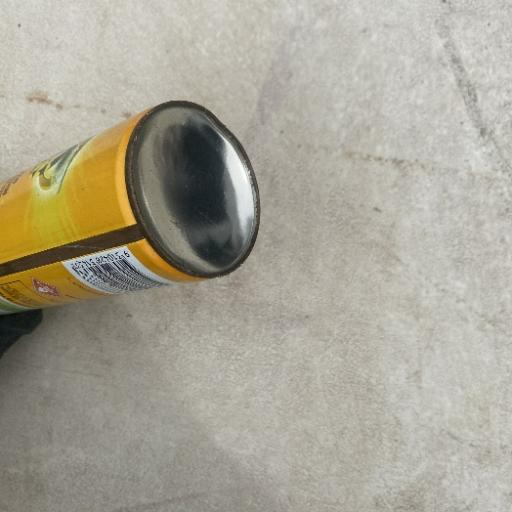Metal: (1, 96, 262, 318)
